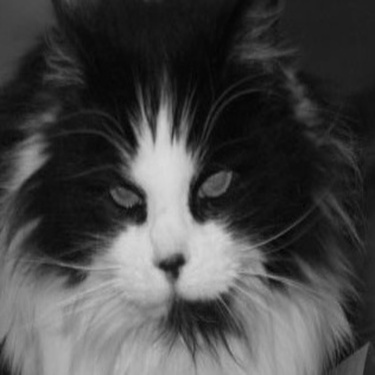cat: (1, 12, 361, 351)
